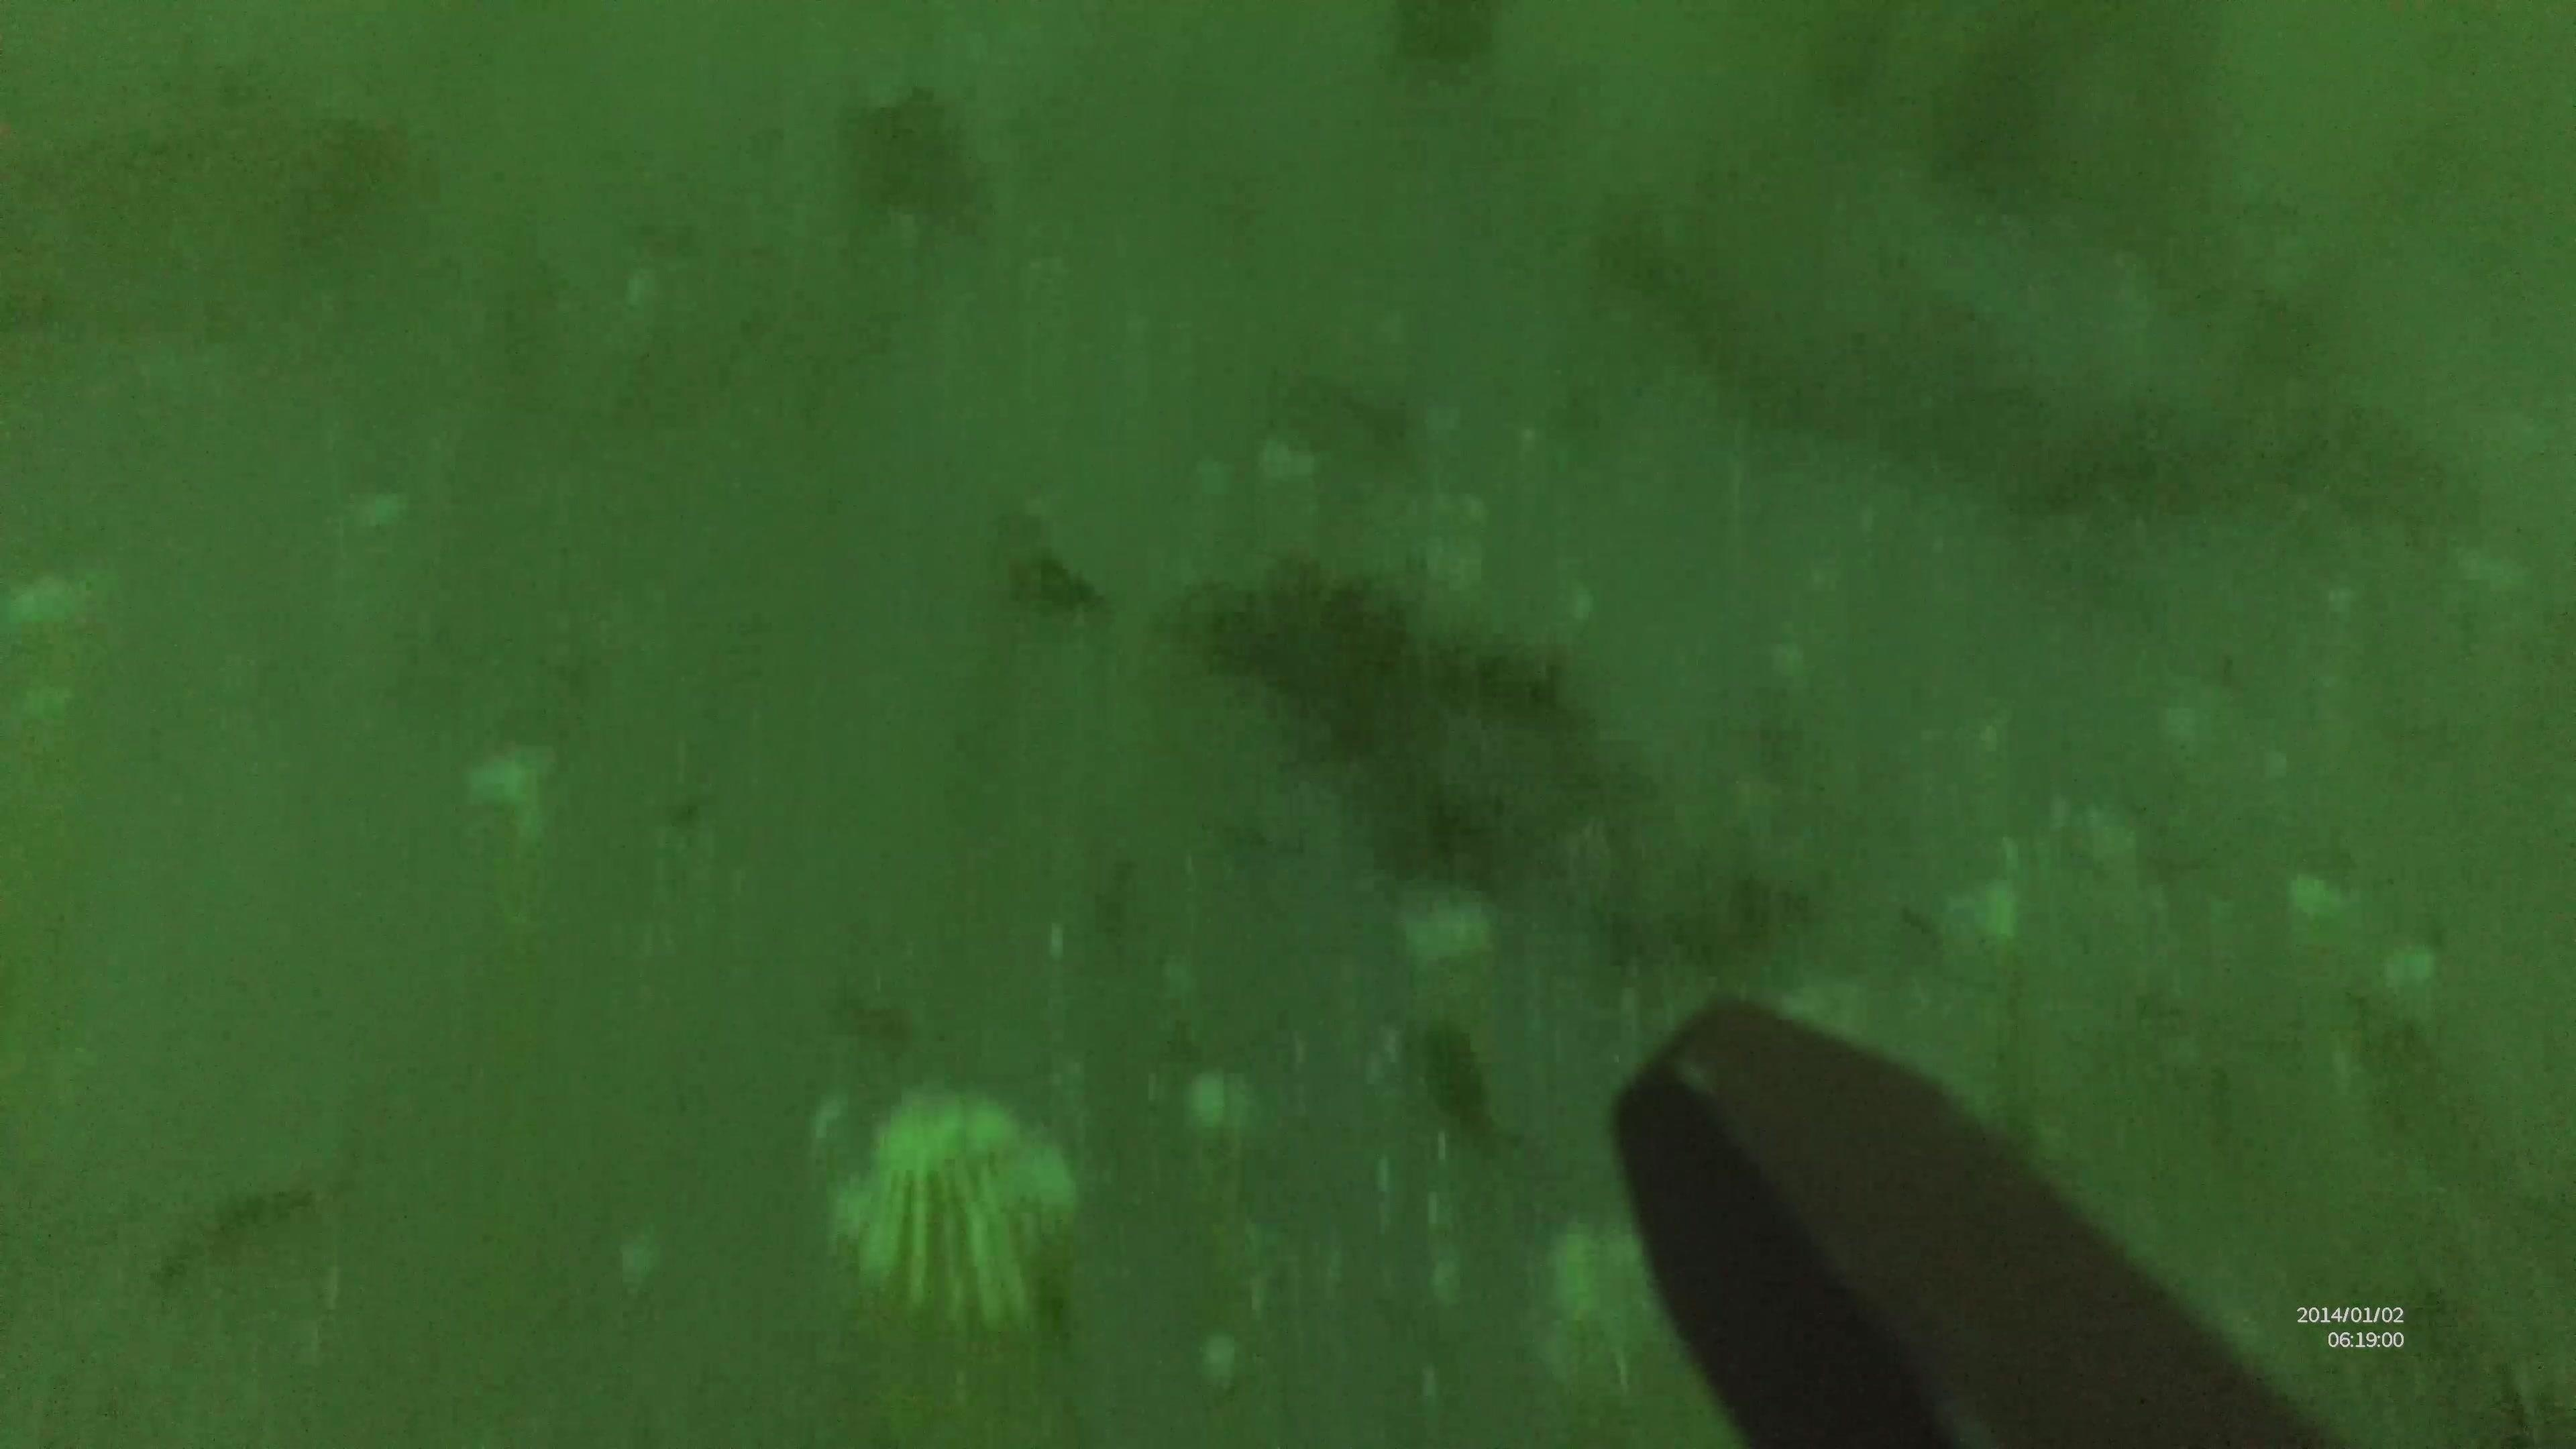scallop: (794, 1065, 1086, 1334)
